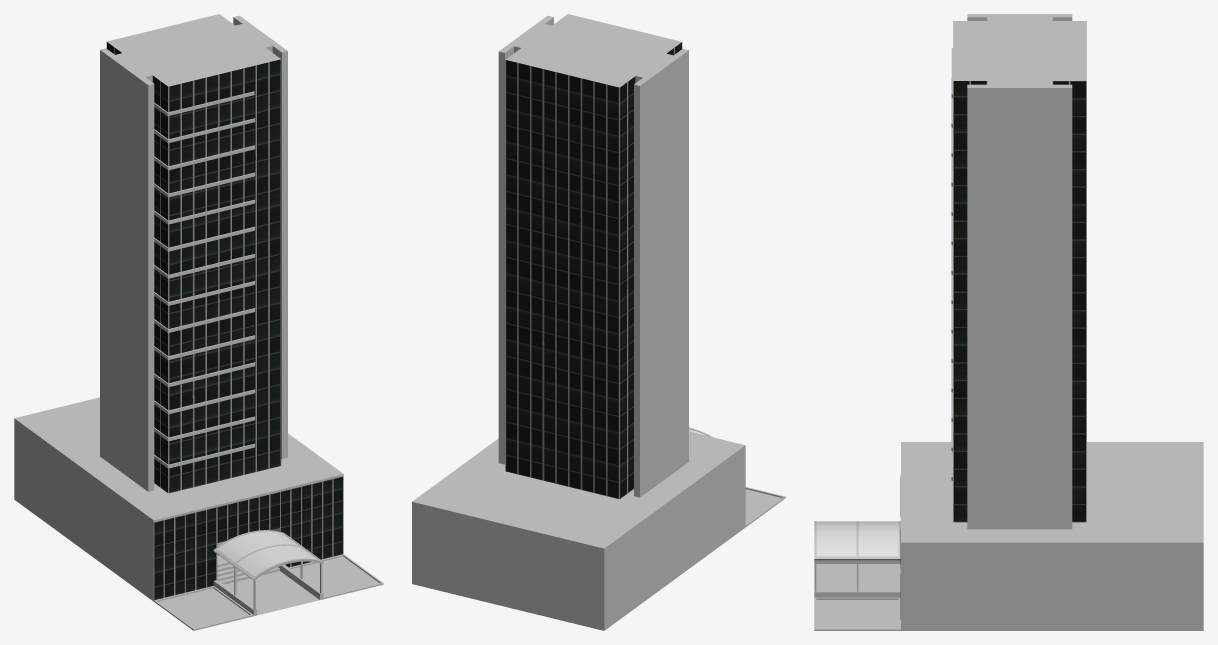
The picture shows the model from 3 angles, left to right: view 1: azimuth 30°, elevation 25°; view 2: azimuth 150°, elevation 25°; view 3: azimuth 270°, elevation 25°; orthographic projection. The views are drawn at different scales.
Visible parts, largest first — view 1: BC-021; view 2: BC-021; view 3: BC-021.
Boxes of the visible parts, x1=… form: BC-021: x1=14, y1=14, x2=383, y2=630; BC-021: x1=412, y1=14, x2=785, y2=630; BC-021: x1=814, y1=14, x2=1203, y2=630.
Size of what is drawn, in the model's own units: 22 by 54 by 36.
